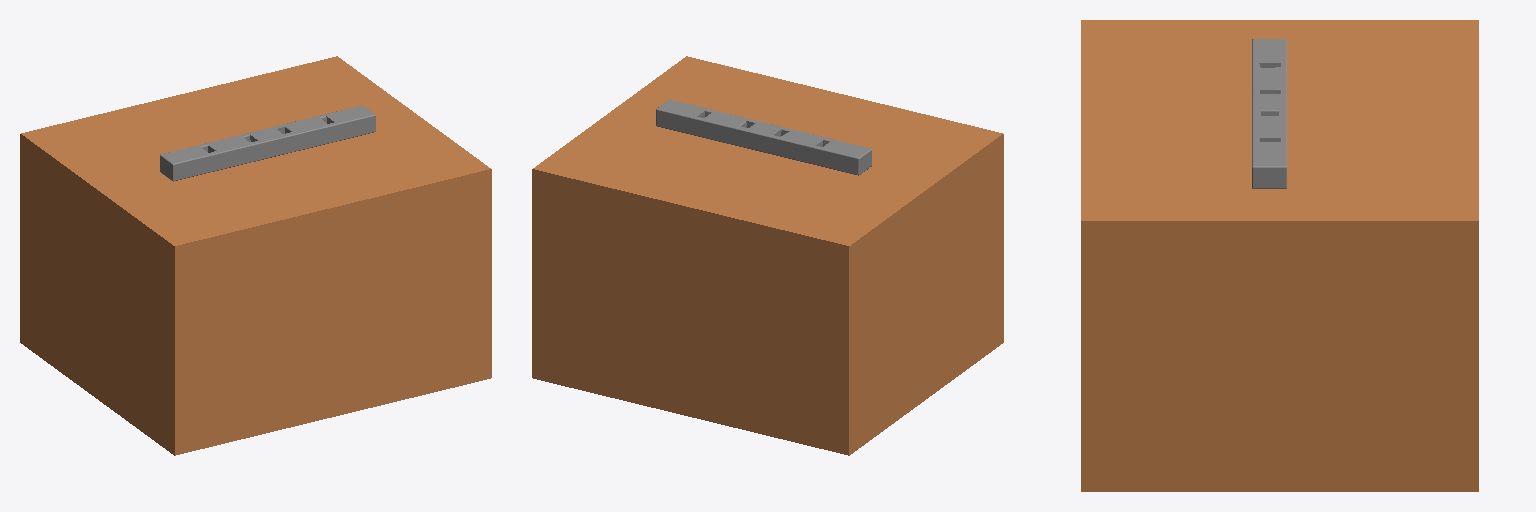
URDF robot description (table_beam_2x_2_scene_0012):
<?xml version="1.0"?>
<robot name="table_beam_2x_2_scene_0012">
  <link name="box">
    <visual>
      <material name="wood"><color rgba="0.82 0.56 0.35 1.0"/></material>
      <origin xyz="0 0 0"/>
      <geometry><box size="0.475 0.4 0.3"/></geometry>
    </visual>
    <collision>
      <origin xyz="0 0 0"/>
      <geometry><box size="0.475 0.4 0.3"/></geometry>
    </collision>
    <inertial>
      <mass value="500"/>
      <friction value="1.0"/>
      <inertia ixx="1000.0" ixy="0.0" ixz="0.0" iyy="1000.0" iyz="0.0" izz="1000.0"/>
    </inertial>
  </link>
  <link name="part_6_hull_0">
    <visual>
      <origin xyz="0 0 0" rpy="0 0 0"/>
      <geometry><mesh filename="../../6/coacd/decomp_0.obj" scale="1 1 1"/></geometry>
      <material name="placed_0"><color rgba="0.6 0.6 0.6 1.0"/></material>
    </visual>
    <collision>
      <origin xyz="0 0 0" rpy="0 0 0"/>
      <geometry><mesh filename="../../6/coacd/decomp_0.obj" scale="1 1 1"/></geometry>
    </collision>
  </link>
  <joint name="part_6_hull_0_joint" type="fixed">
    <parent link="box"/>
    <child link="part_6_hull_0"/>
    <origin xyz="0.011585 -0.010293 0.162666" rpy="0.000000 0.000000 0.000000"/>
  </joint>
  <link name="part_6_hull_1">
    <visual>
      <origin xyz="0 0 0" rpy="0 0 0"/>
      <geometry><mesh filename="../../6/coacd/decomp_1.obj" scale="1 1 1"/></geometry>
      <material name="placed_1"><color rgba="0.6 0.6 0.6 1.0"/></material>
    </visual>
    <collision>
      <origin xyz="0 0 0" rpy="0 0 0"/>
      <geometry><mesh filename="../../6/coacd/decomp_1.obj" scale="1 1 1"/></geometry>
    </collision>
  </link>
  <joint name="part_6_hull_1_joint" type="fixed">
    <parent link="box"/>
    <child link="part_6_hull_1"/>
    <origin xyz="0.011585 -0.010293 0.162666" rpy="0.000000 0.000000 0.000000"/>
  </joint>
  <link name="part_6_hull_2">
    <visual>
      <origin xyz="0 0 0" rpy="0 0 0"/>
      <geometry><mesh filename="../../6/coacd/decomp_10.obj" scale="1 1 1"/></geometry>
      <material name="placed_2"><color rgba="0.6 0.6 0.6 1.0"/></material>
    </visual>
    <collision>
      <origin xyz="0 0 0" rpy="0 0 0"/>
      <geometry><mesh filename="../../6/coacd/decomp_10.obj" scale="1 1 1"/></geometry>
    </collision>
  </link>
  <joint name="part_6_hull_2_joint" type="fixed">
    <parent link="box"/>
    <child link="part_6_hull_2"/>
    <origin xyz="0.011585 -0.010293 0.162666" rpy="0.000000 0.000000 0.000000"/>
  </joint>
  <link name="part_6_hull_3">
    <visual>
      <origin xyz="0 0 0" rpy="0 0 0"/>
      <geometry><mesh filename="../../6/coacd/decomp_11.obj" scale="1 1 1"/></geometry>
      <material name="placed_3"><color rgba="0.6 0.6 0.6 1.0"/></material>
    </visual>
    <collision>
      <origin xyz="0 0 0" rpy="0 0 0"/>
      <geometry><mesh filename="../../6/coacd/decomp_11.obj" scale="1 1 1"/></geometry>
    </collision>
  </link>
  <joint name="part_6_hull_3_joint" type="fixed">
    <parent link="box"/>
    <child link="part_6_hull_3"/>
    <origin xyz="0.011585 -0.010293 0.162666" rpy="0.000000 0.000000 0.000000"/>
  </joint>
  <link name="part_6_hull_4">
    <visual>
      <origin xyz="0 0 0" rpy="0 0 0"/>
      <geometry><mesh filename="../../6/coacd/decomp_12.obj" scale="1 1 1"/></geometry>
      <material name="placed_4"><color rgba="0.6 0.6 0.6 1.0"/></material>
    </visual>
    <collision>
      <origin xyz="0 0 0" rpy="0 0 0"/>
      <geometry><mesh filename="../../6/coacd/decomp_12.obj" scale="1 1 1"/></geometry>
    </collision>
  </link>
  <joint name="part_6_hull_4_joint" type="fixed">
    <parent link="box"/>
    <child link="part_6_hull_4"/>
    <origin xyz="0.011585 -0.010293 0.162666" rpy="0.000000 0.000000 0.000000"/>
  </joint>
  <link name="part_6_hull_5">
    <visual>
      <origin xyz="0 0 0" rpy="0 0 0"/>
      <geometry><mesh filename="../../6/coacd/decomp_13.obj" scale="1 1 1"/></geometry>
      <material name="placed_5"><color rgba="0.6 0.6 0.6 1.0"/></material>
    </visual>
    <collision>
      <origin xyz="0 0 0" rpy="0 0 0"/>
      <geometry><mesh filename="../../6/coacd/decomp_13.obj" scale="1 1 1"/></geometry>
    </collision>
  </link>
  <joint name="part_6_hull_5_joint" type="fixed">
    <parent link="box"/>
    <child link="part_6_hull_5"/>
    <origin xyz="0.011585 -0.010293 0.162666" rpy="0.000000 0.000000 0.000000"/>
  </joint>
  <link name="part_6_hull_6">
    <visual>
      <origin xyz="0 0 0" rpy="0 0 0"/>
      <geometry><mesh filename="../../6/coacd/decomp_2.obj" scale="1 1 1"/></geometry>
      <material name="placed_6"><color rgba="0.6 0.6 0.6 1.0"/></material>
    </visual>
    <collision>
      <origin xyz="0 0 0" rpy="0 0 0"/>
      <geometry><mesh filename="../../6/coacd/decomp_2.obj" scale="1 1 1"/></geometry>
    </collision>
  </link>
  <joint name="part_6_hull_6_joint" type="fixed">
    <parent link="box"/>
    <child link="part_6_hull_6"/>
    <origin xyz="0.011585 -0.010293 0.162666" rpy="0.000000 0.000000 0.000000"/>
  </joint>
  <link name="part_6_hull_7">
    <visual>
      <origin xyz="0 0 0" rpy="0 0 0"/>
      <geometry><mesh filename="../../6/coacd/decomp_3.obj" scale="1 1 1"/></geometry>
      <material name="placed_7"><color rgba="0.6 0.6 0.6 1.0"/></material>
    </visual>
    <collision>
      <origin xyz="0 0 0" rpy="0 0 0"/>
      <geometry><mesh filename="../../6/coacd/decomp_3.obj" scale="1 1 1"/></geometry>
    </collision>
  </link>
  <joint name="part_6_hull_7_joint" type="fixed">
    <parent link="box"/>
    <child link="part_6_hull_7"/>
    <origin xyz="0.011585 -0.010293 0.162666" rpy="0.000000 0.000000 0.000000"/>
  </joint>
  <link name="part_6_hull_8">
    <visual>
      <origin xyz="0 0 0" rpy="0 0 0"/>
      <geometry><mesh filename="../../6/coacd/decomp_4.obj" scale="1 1 1"/></geometry>
      <material name="placed_8"><color rgba="0.6 0.6 0.6 1.0"/></material>
    </visual>
    <collision>
      <origin xyz="0 0 0" rpy="0 0 0"/>
      <geometry><mesh filename="../../6/coacd/decomp_4.obj" scale="1 1 1"/></geometry>
    </collision>
  </link>
  <joint name="part_6_hull_8_joint" type="fixed">
    <parent link="box"/>
    <child link="part_6_hull_8"/>
    <origin xyz="0.011585 -0.010293 0.162666" rpy="0.000000 0.000000 0.000000"/>
  </joint>
  <link name="part_6_hull_9">
    <visual>
      <origin xyz="0 0 0" rpy="0 0 0"/>
      <geometry><mesh filename="../../6/coacd/decomp_5.obj" scale="1 1 1"/></geometry>
      <material name="placed_9"><color rgba="0.6 0.6 0.6 1.0"/></material>
    </visual>
    <collision>
      <origin xyz="0 0 0" rpy="0 0 0"/>
      <geometry><mesh filename="../../6/coacd/decomp_5.obj" scale="1 1 1"/></geometry>
    </collision>
  </link>
  <joint name="part_6_hull_9_joint" type="fixed">
    <parent link="box"/>
    <child link="part_6_hull_9"/>
    <origin xyz="0.011585 -0.010293 0.162666" rpy="0.000000 0.000000 0.000000"/>
  </joint>
  <link name="part_6_hull_10">
    <visual>
      <origin xyz="0 0 0" rpy="0 0 0"/>
      <geometry><mesh filename="../../6/coacd/decomp_6.obj" scale="1 1 1"/></geometry>
      <material name="placed_10"><color rgba="0.6 0.6 0.6 1.0"/></material>
    </visual>
    <collision>
      <origin xyz="0 0 0" rpy="0 0 0"/>
      <geometry><mesh filename="../../6/coacd/decomp_6.obj" scale="1 1 1"/></geometry>
    </collision>
  </link>
  <joint name="part_6_hull_10_joint" type="fixed">
    <parent link="box"/>
    <child link="part_6_hull_10"/>
    <origin xyz="0.011585 -0.010293 0.162666" rpy="0.000000 0.000000 0.000000"/>
  </joint>
  <link name="part_6_hull_11">
    <visual>
      <origin xyz="0 0 0" rpy="0 0 0"/>
      <geometry><mesh filename="../../6/coacd/decomp_7.obj" scale="1 1 1"/></geometry>
      <material name="placed_11"><color rgba="0.6 0.6 0.6 1.0"/></material>
    </visual>
    <collision>
      <origin xyz="0 0 0" rpy="0 0 0"/>
      <geometry><mesh filename="../../6/coacd/decomp_7.obj" scale="1 1 1"/></geometry>
    </collision>
  </link>
  <joint name="part_6_hull_11_joint" type="fixed">
    <parent link="box"/>
    <child link="part_6_hull_11"/>
    <origin xyz="0.011585 -0.010293 0.162666" rpy="0.000000 0.000000 0.000000"/>
  </joint>
  <link name="part_6_hull_12">
    <visual>
      <origin xyz="0 0 0" rpy="0 0 0"/>
      <geometry><mesh filename="../../6/coacd/decomp_8.obj" scale="1 1 1"/></geometry>
      <material name="placed_12"><color rgba="0.6 0.6 0.6 1.0"/></material>
    </visual>
    <collision>
      <origin xyz="0 0 0" rpy="0 0 0"/>
      <geometry><mesh filename="../../6/coacd/decomp_8.obj" scale="1 1 1"/></geometry>
    </collision>
  </link>
  <joint name="part_6_hull_12_joint" type="fixed">
    <parent link="box"/>
    <child link="part_6_hull_12"/>
    <origin xyz="0.011585 -0.010293 0.162666" rpy="0.000000 0.000000 0.000000"/>
  </joint>
  <link name="part_6_hull_13">
    <visual>
      <origin xyz="0 0 0" rpy="0 0 0"/>
      <geometry><mesh filename="../../6/coacd/decomp_9.obj" scale="1 1 1"/></geometry>
      <material name="placed_13"><color rgba="0.6 0.6 0.6 1.0"/></material>
    </visual>
    <collision>
      <origin xyz="0 0 0" rpy="0 0 0"/>
      <geometry><mesh filename="../../6/coacd/decomp_9.obj" scale="1 1 1"/></geometry>
    </collision>
  </link>
  <joint name="part_6_hull_13_joint" type="fixed">
    <parent link="box"/>
    <child link="part_6_hull_13"/>
    <origin xyz="0.011585 -0.010293 0.162666" rpy="0.000000 0.000000 0.000000"/>
  </joint>
</robot>

--- Render facts (derived) ---
Views: 3 orthographic renders of the robot side by side, from view 1: azimuth 30°, elevation 25°; view 2: azimuth 150°, elevation 25°; view 3: azimuth 270°, elevation 25°.
Robot: table_beam_2x_2_scene_0012 — 15 links, 14 joints (14 fixed); root link box; default pose: every joint at zero.
Visible links, largest first — view 1: box, part_6_hull_1, part_6_hull_0, part_6_hull_9, part_6_hull_5, part_6_hull_3; view 2: box, part_6_hull_1, part_6_hull_0, part_6_hull_2, part_6_hull_12, part_6_hull_5; view 3: box, part_6_hull_0, part_6_hull_1, part_6_hull_5, part_6_hull_2.
Link boxes in pixels (box(x1,y1,x2,y2)): box: box(20, 56, 491, 455); part_6_hull_1: box(160, 145, 211, 181); part_6_hull_0: box(324, 105, 375, 140); part_6_hull_9: box(210, 141, 260, 171); part_6_hull_5: box(291, 116, 329, 149); part_6_hull_3: box(262, 130, 303, 158); box: box(532, 56, 1003, 455); part_6_hull_1: box(820, 139, 871, 175); part_6_hull_0: box(656, 100, 706, 135); part_6_hull_2: box(778, 132, 822, 163); part_6_hull_12: box(728, 124, 769, 152); part_6_hull_5: box(702, 111, 740, 143); box: box(1081, 20, 1478, 491); part_6_hull_0: box(1252, 142, 1286, 188); part_6_hull_1: box(1252, 39, 1286, 67); part_6_hull_5: box(1252, 121, 1286, 141); part_6_hull_2: box(1261, 67, 1286, 93).
Bounding box of the posed robot: 0.475 × 0.4 × 0.3254 m (x, y, z).
Meshes: 14 distinct files referenced, 14 mesh visuals loaded (14 OBJ).
